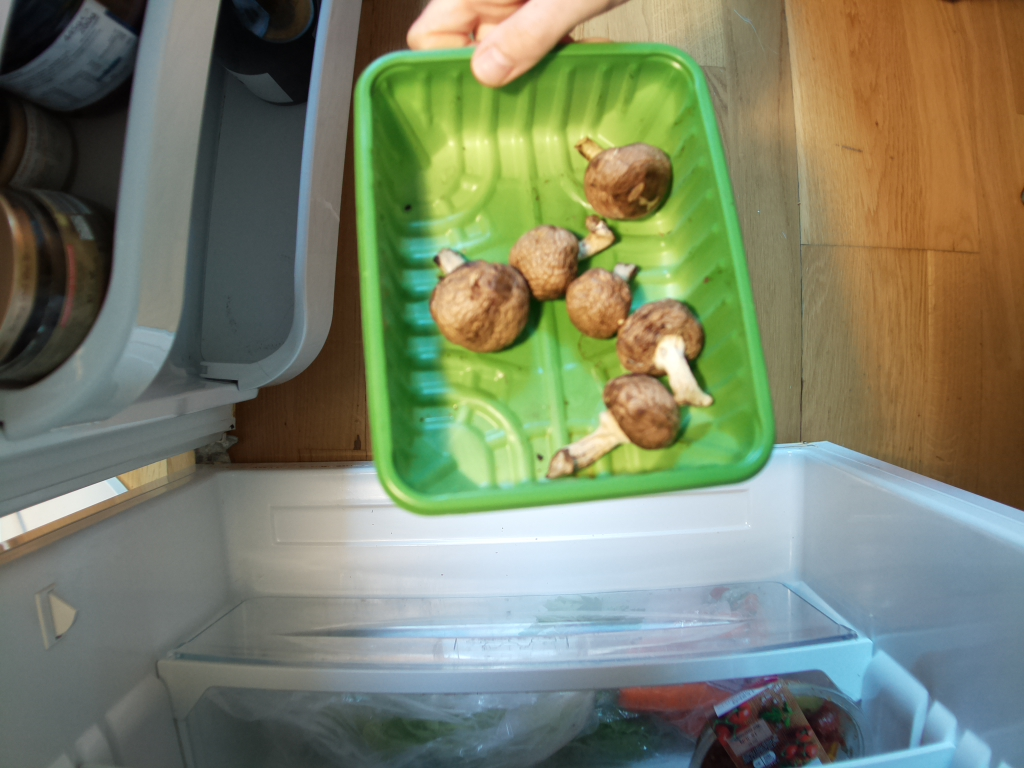mushrooms-bad: (350, 49, 773, 511)
